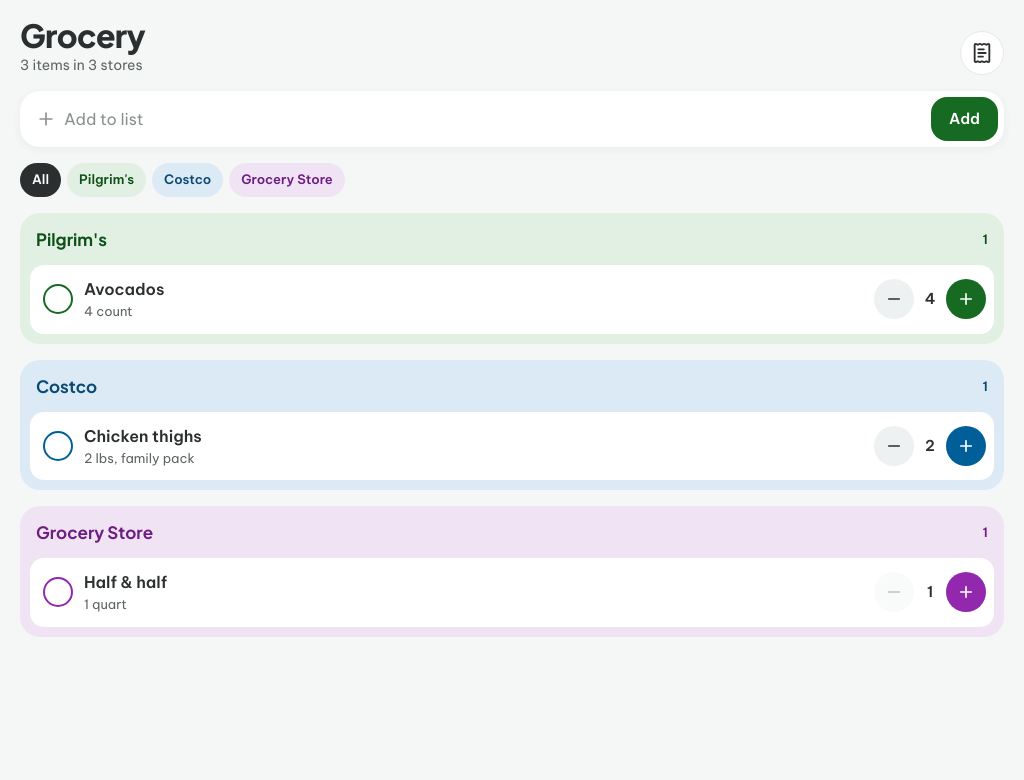
GroceryPage › a tapped store pill filters to that store
This screenshot has width=1024, height=780.
Check: the text "Avocados" is shown, box [84,279,164,299]
Click the button "Costco".
click(188, 180)  # box [152,163,223,197]
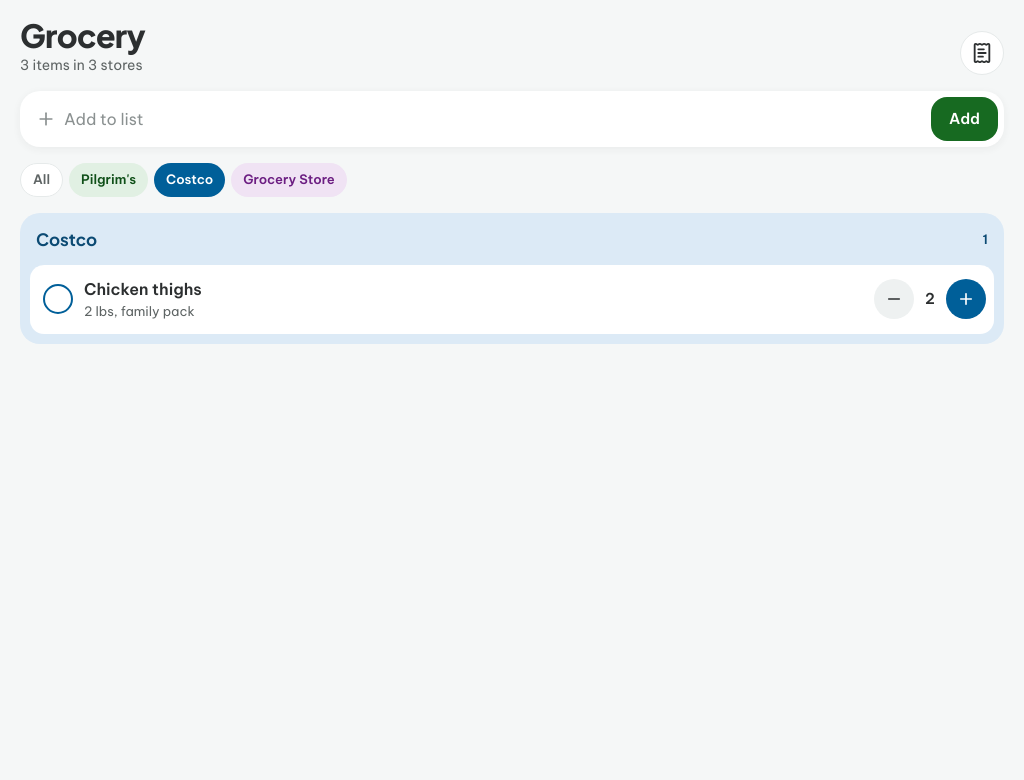
Check: the text "Chicken thighs" is shown, box [84,279,202,299]
Check: the button "Avocados" is gone
